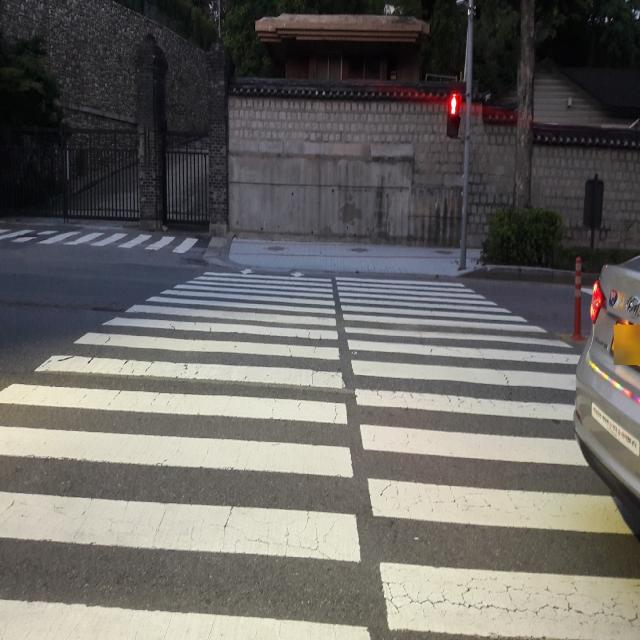빨간불: (445, 95, 464, 137)
횡단보도: (0, 260, 640, 640), (0, 218, 203, 258)
